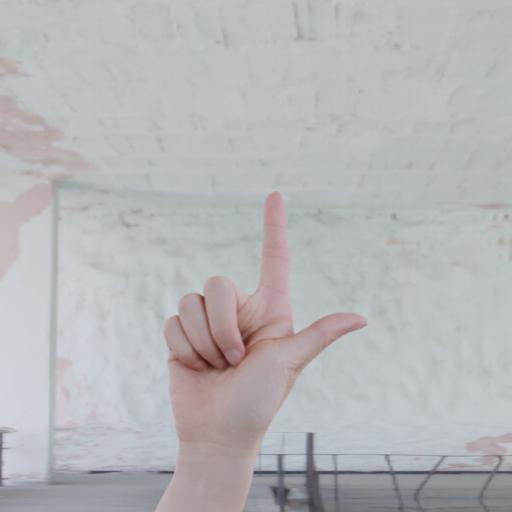L: (79, 156, 404, 504)
